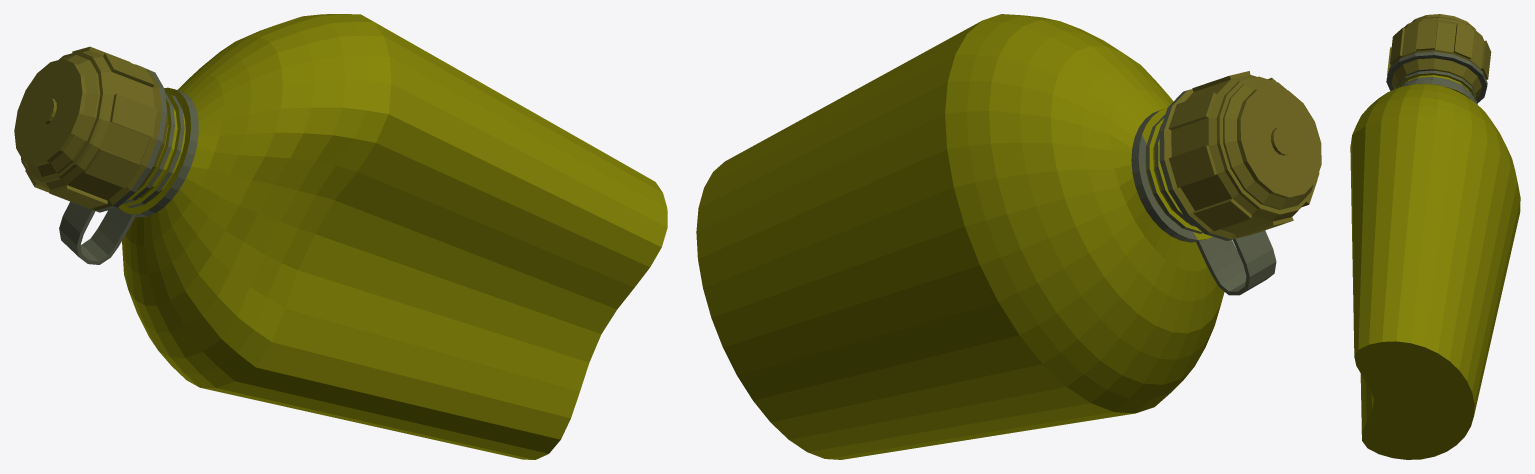
File: Canteen.fbx
The picture shows the model from 3 angles, left to right: view 1: azimuth 30°, elevation 25°; view 2: azimuth 150°, elevation 25°; view 3: azimuth 270°, elevation 25°; orthographic projection. The views are drawn at different scales.
Visible parts, largest first — view 1: ZomboidCanteen; view 2: ZomboidCanteen; view 3: ZomboidCanteen.
Part boxes in pixels (x1,y1,x2,y2): ZomboidCanteen: [14, 14, 667, 459]; ZomboidCanteen: [696, 14, 1321, 459]; ZomboidCanteen: [1350, 14, 1520, 459].
Size of the model in its own units: 0.1607 by 0.1228 by 0.0601.
